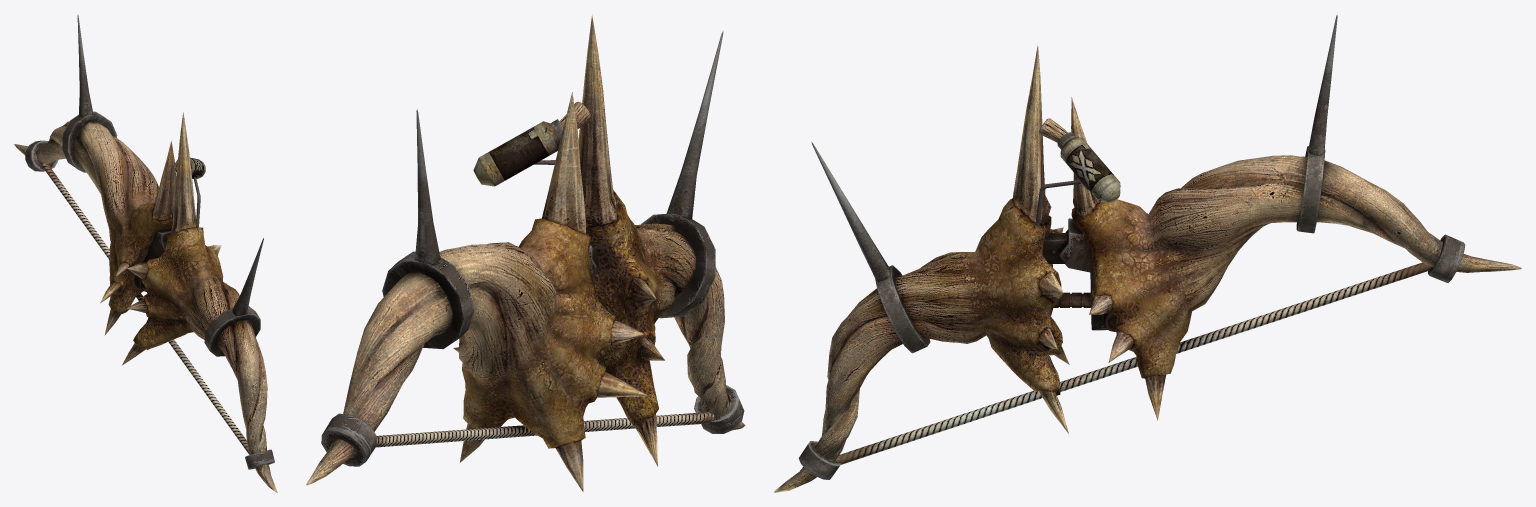
The model's file is bow002.obj.
3 renders of one model, left to right at view 1: azimuth 30°, elevation 25°; view 2: azimuth 150°, elevation 25°; view 3: azimuth 270°, elevation 25°, orthographic. The views are drawn at different scales.
Visible parts, largest first — view 1: bow002_000_LOD_1, bow002_002_LOD_1; view 2: bow002_000_LOD_1, bow002_002_LOD_1; view 3: bow002_000_LOD_1, bow002_002_LOD_1.
Boxes of the visible parts, bbox=[...] form: bow002_000_LOD_1: bbox=[14, 15, 277, 492]; bow002_002_LOD_1: bbox=[40, 162, 249, 454]; bow002_000_LOD_1: bbox=[306, 14, 745, 491]; bow002_002_LOD_1: bbox=[376, 412, 714, 447]; bow002_000_LOD_1: bbox=[774, 14, 1521, 492]; bow002_002_LOD_1: bbox=[835, 262, 1431, 464].
Size of the model in its own units: 62.33 by 170 by 241.
